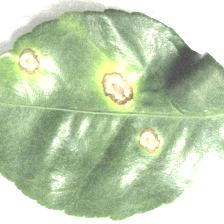canker: (11, 41, 165, 154)
